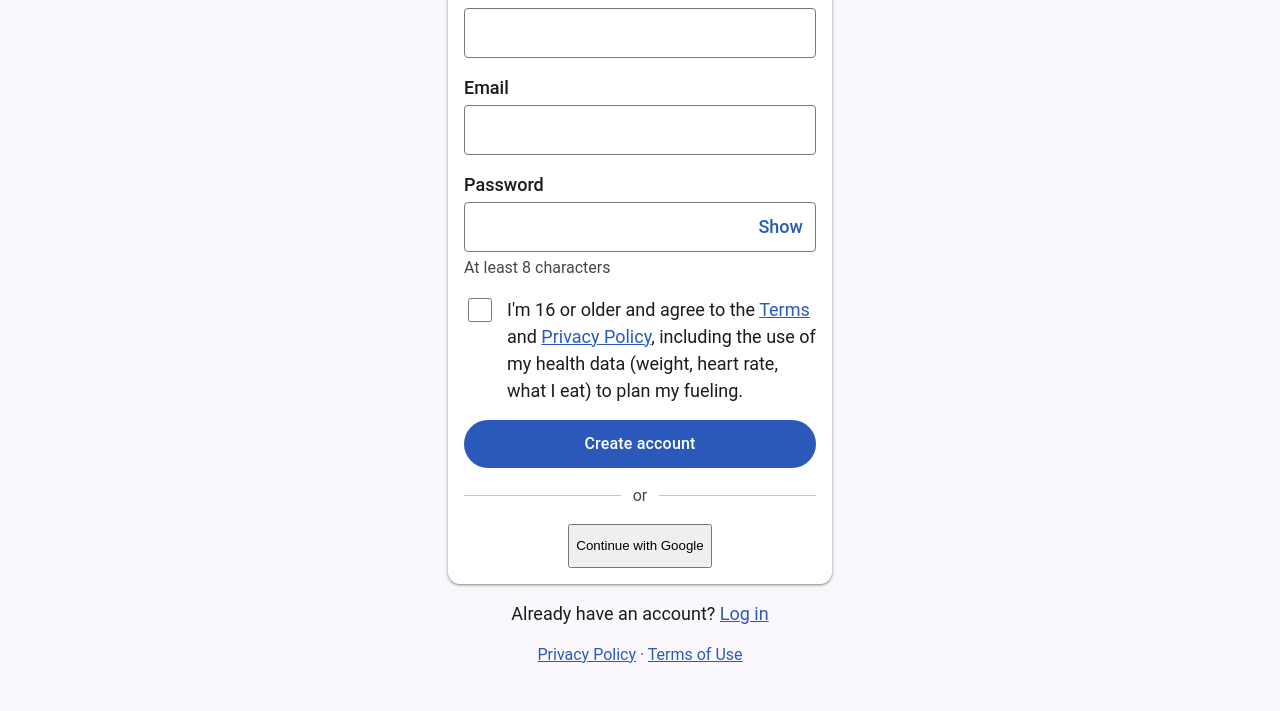
Test case: Continue with Google › a brand-new rider lands on their profile, from either page
(page scrolled)
Click the button "Continue with Google" at [640, 546], box left=568, top=524, right=712, bottom=568
(page scrolled)
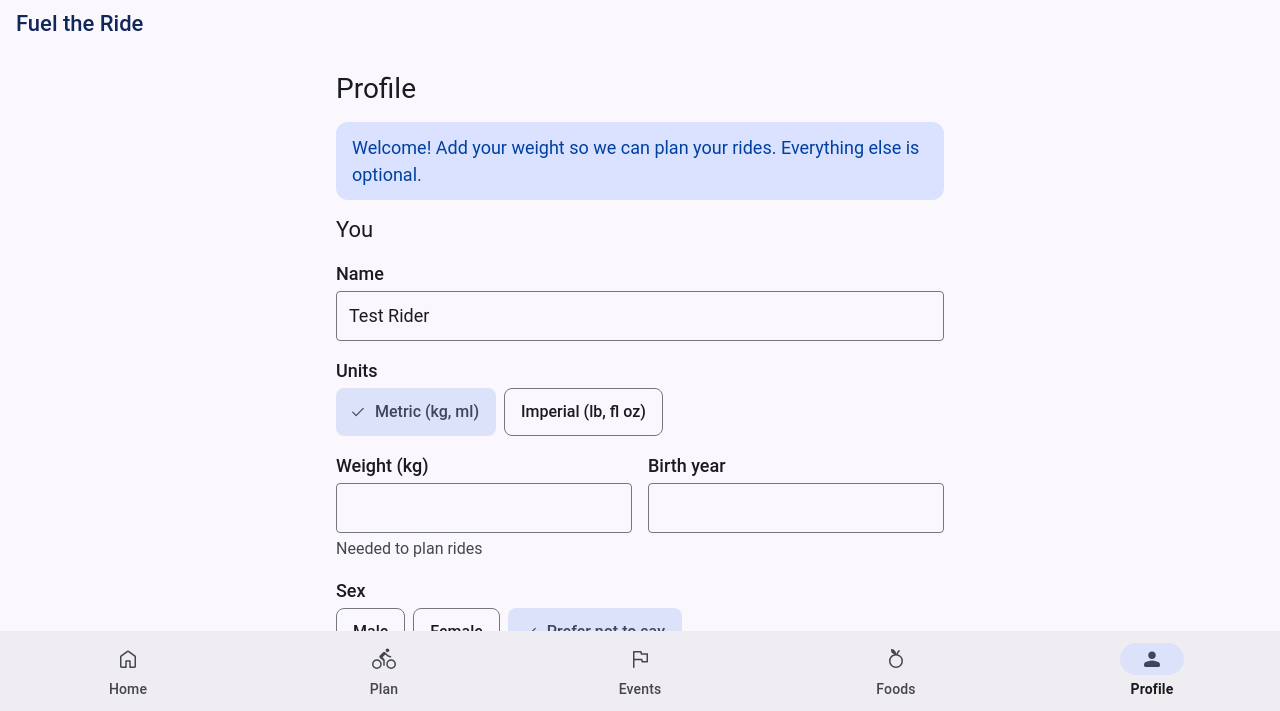
Expected: the heading "Profile" is shown, left=336, top=72, right=416, bottom=105
Expected: the text "Add your weight so we can plan your rides" is shown, left=352, top=137, right=919, bottom=185
